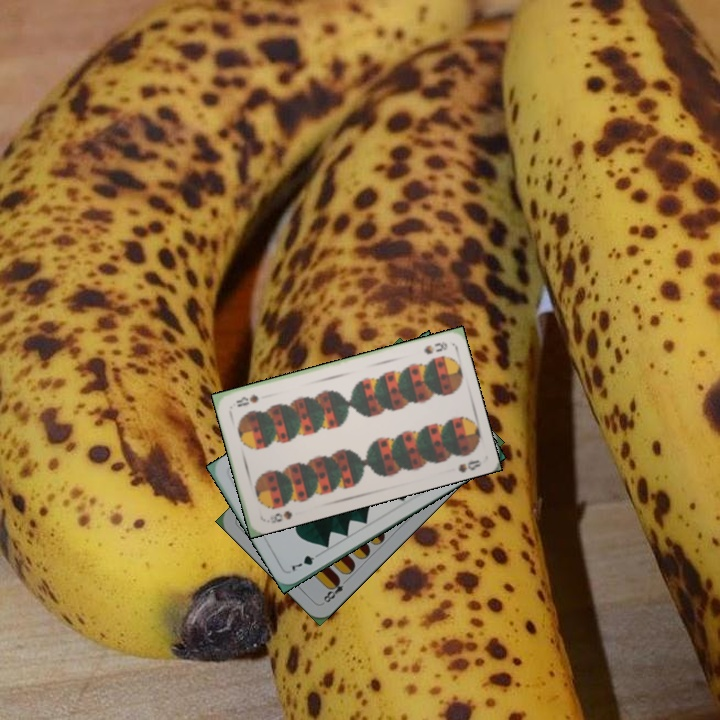E8: (319, 574, 351, 606)
G7: (288, 548, 323, 574)
S8: (419, 337, 450, 357), (266, 507, 295, 526)
